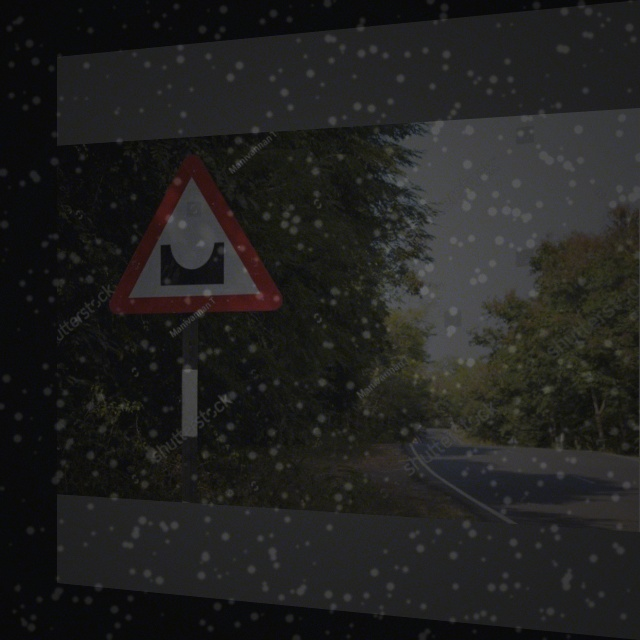Dangerous_Dip: (107, 151, 279, 312)
